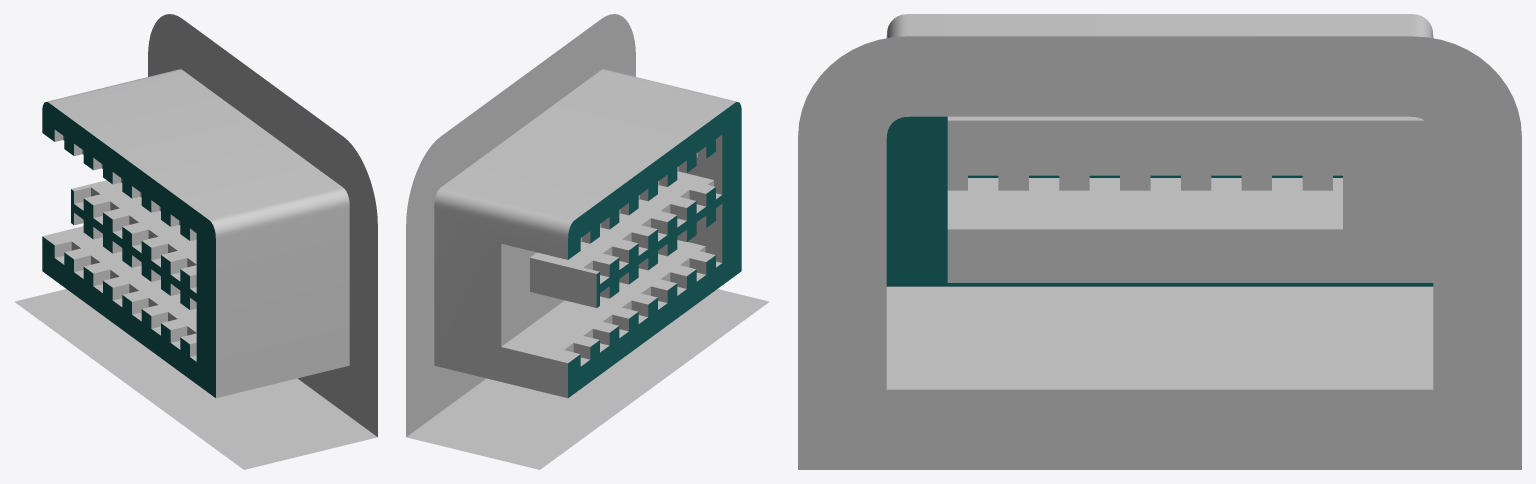
Rendered from original-106.obj.
3 views of the same model, side by side, from view 1: azimuth 30°, elevation 25°; view 2: azimuth 150°, elevation 25°; view 3: azimuth 270°, elevation 25° (orthographic). The views are drawn at different scales.
Visible parts, largest first — view 1: mesh35/mesh35-geometry#mesh35-geometry; view 2: mesh35/mesh35-geometry#mesh35-geometry; view 3: mesh35/mesh35-geometry#mesh35-geometry.
Boxes of the visible parts, x1,y1,x2,y2 form: mesh35/mesh35-geometry#mesh35-geometry: (14, 14, 377, 469); mesh35/mesh35-geometry#mesh35-geometry: (406, 14, 769, 469); mesh35/mesh35-geometry#mesh35-geometry: (798, 14, 1521, 469).
Bounding box in the file's own units: 0.00864 × 0.017 × 0.0257.
